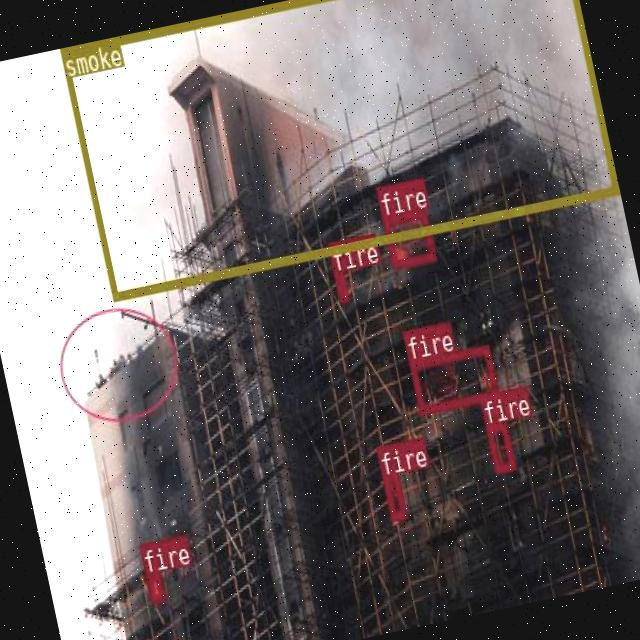fire: (408, 344, 498, 413), (382, 208, 434, 267), (483, 420, 515, 472), (381, 472, 406, 520), (144, 570, 164, 602), (332, 270, 348, 300)
smoke: (59, 0, 617, 299)
